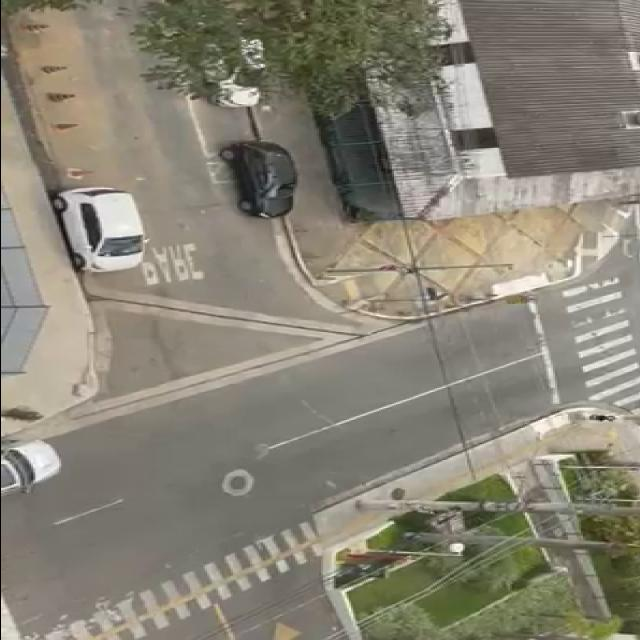car: (38, 184, 156, 272), (217, 138, 304, 222), (0, 432, 71, 504)
